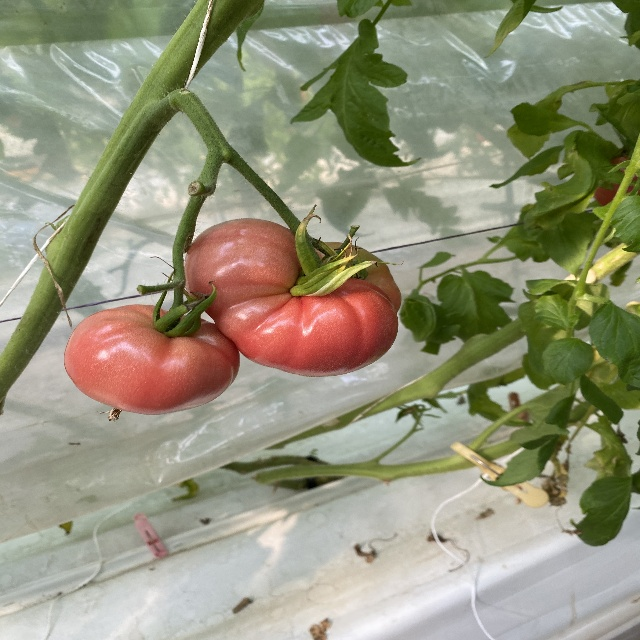b_half_ripened: (186, 219, 401, 378), (63, 304, 240, 416)
